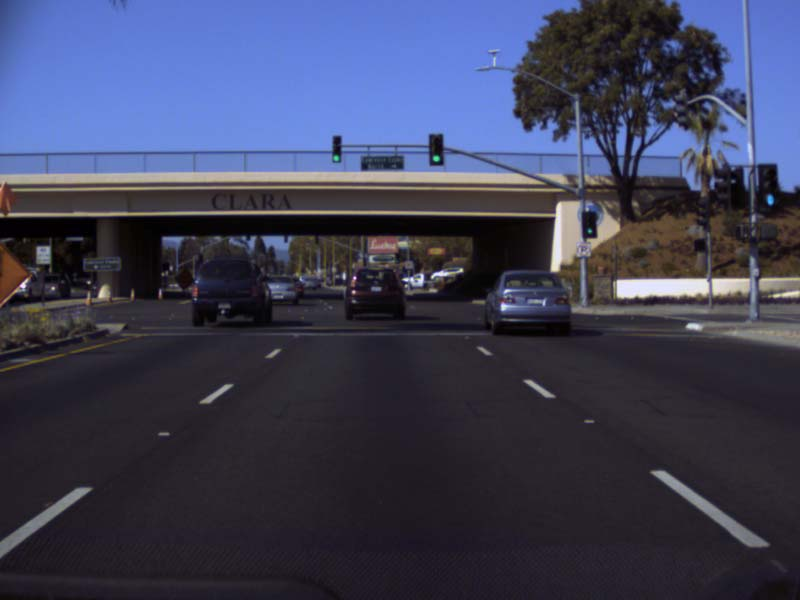Green: (757, 164, 779, 210), (428, 133, 443, 165), (582, 211, 596, 237), (332, 135, 341, 163), (395, 254, 399, 263)
